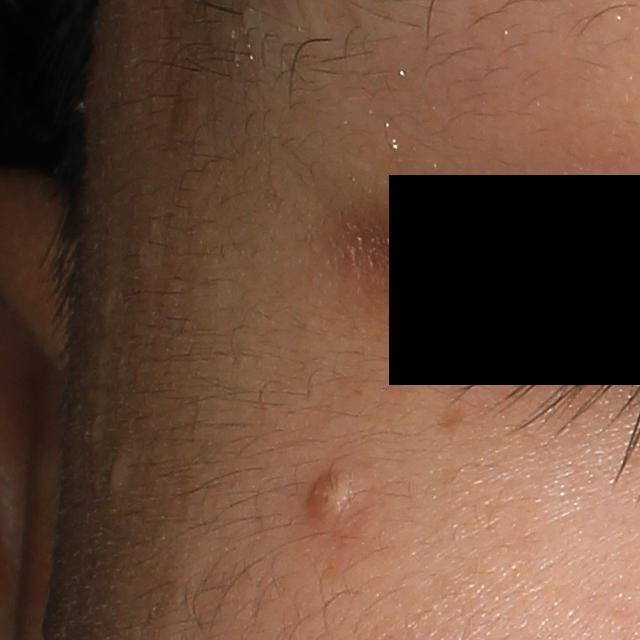comedo: (104, 447, 126, 499)
melasma: (438, 458, 490, 503), (434, 407, 470, 438)
pustule: (311, 464, 367, 529)
